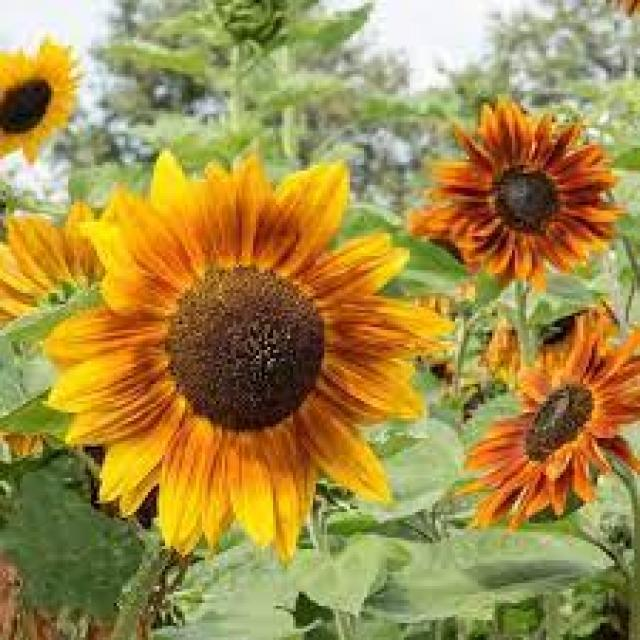sunflower: (35, 129, 466, 582), (398, 87, 632, 297), (455, 304, 640, 546), (0, 178, 194, 343), (4, 27, 86, 172)
